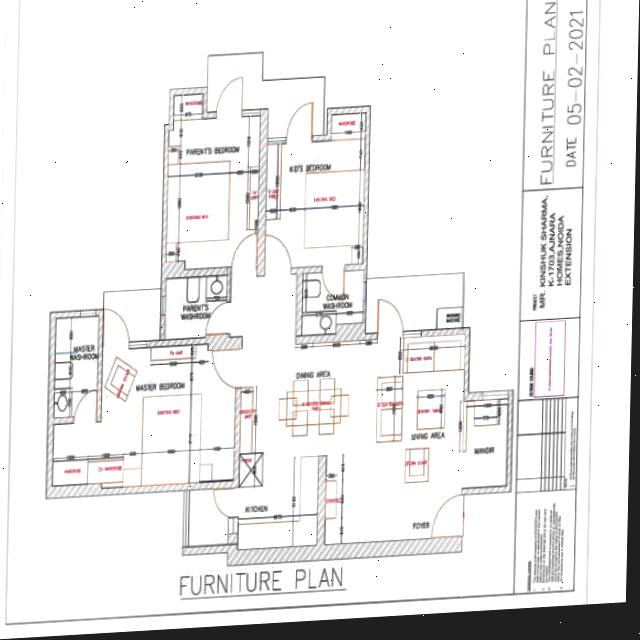room: (48, 345, 240, 486), (369, 332, 466, 495), (168, 114, 259, 269), (187, 450, 320, 550), (266, 138, 363, 271), (269, 340, 366, 452), (363, 274, 466, 333), (55, 317, 99, 418), (161, 275, 230, 338), (299, 272, 367, 335), (465, 400, 508, 487), (100, 290, 164, 342), (331, 114, 366, 139), (173, 95, 204, 115)
